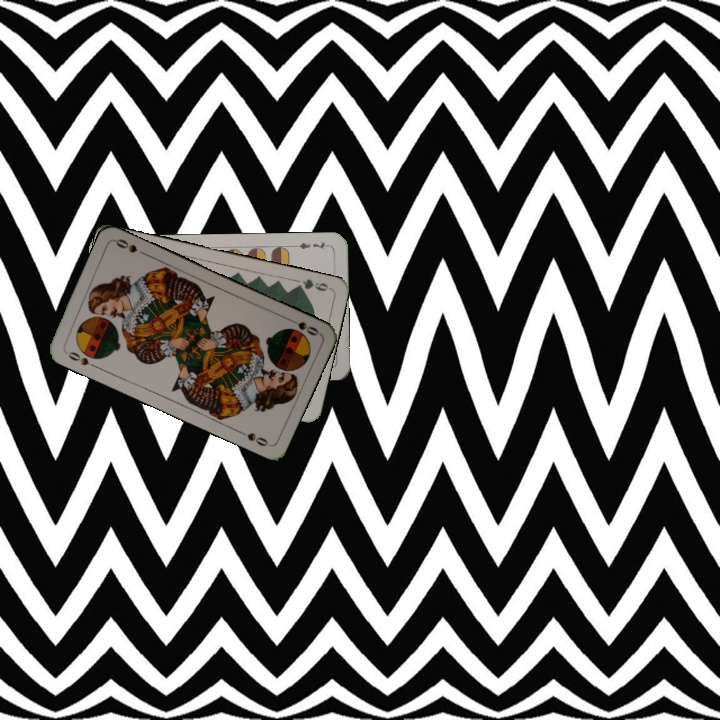E7: (291, 238, 332, 252)
G9: (291, 275, 333, 294)
SO: (61, 347, 100, 370), (284, 314, 321, 338)
